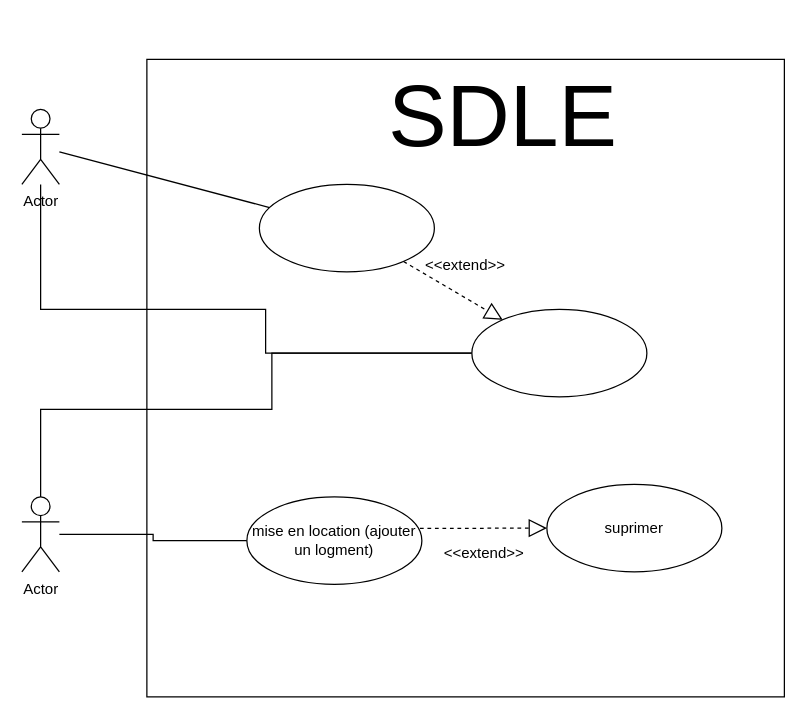
Image size: 806x719. Some labels were removed from this diagram. The shapes that lost their labels are listed below. From the top down, each one's centre as x and y in pixels, then its label:
[346,227]: chercher
[559,352]: louer un logement
